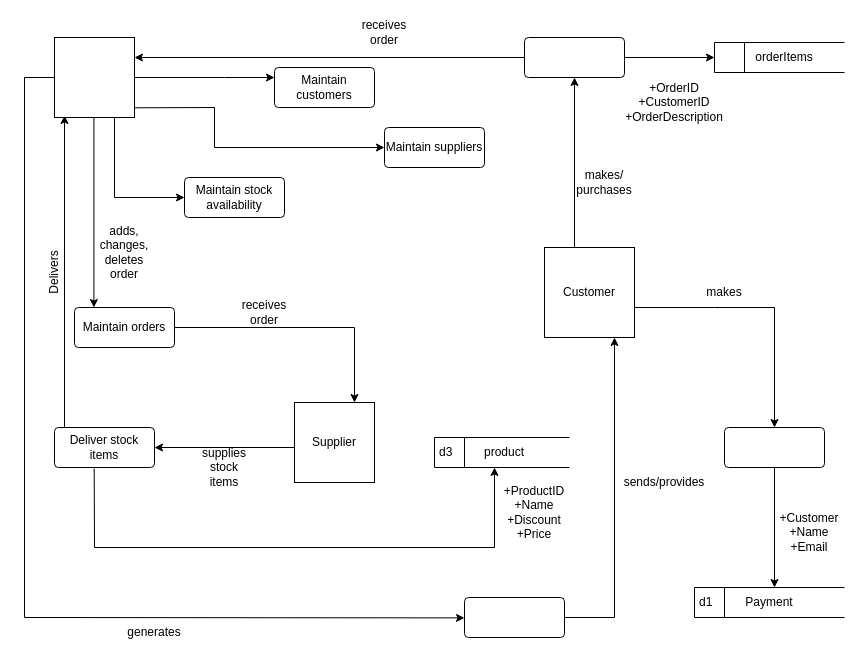
This 862x664 diagram has some shape labels left out. Here are the shapes that lost their labels. From the top down, the box of each, then its label:
(54, 36, 134, 118): Owner
(524, 36, 624, 78): Purchase goods/ Makes an order
(714, 42, 844, 72): d2
(724, 426, 824, 468): Payment of the order
(464, 596, 564, 638): Generate receipt
